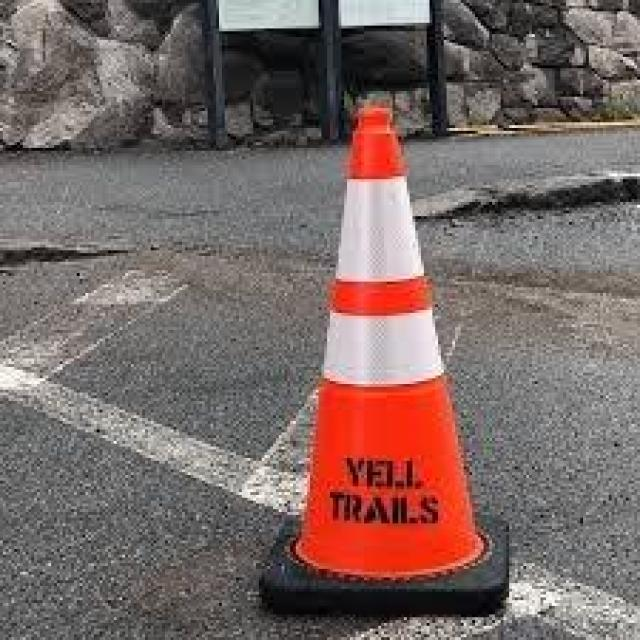cone: (264, 105, 508, 619)
